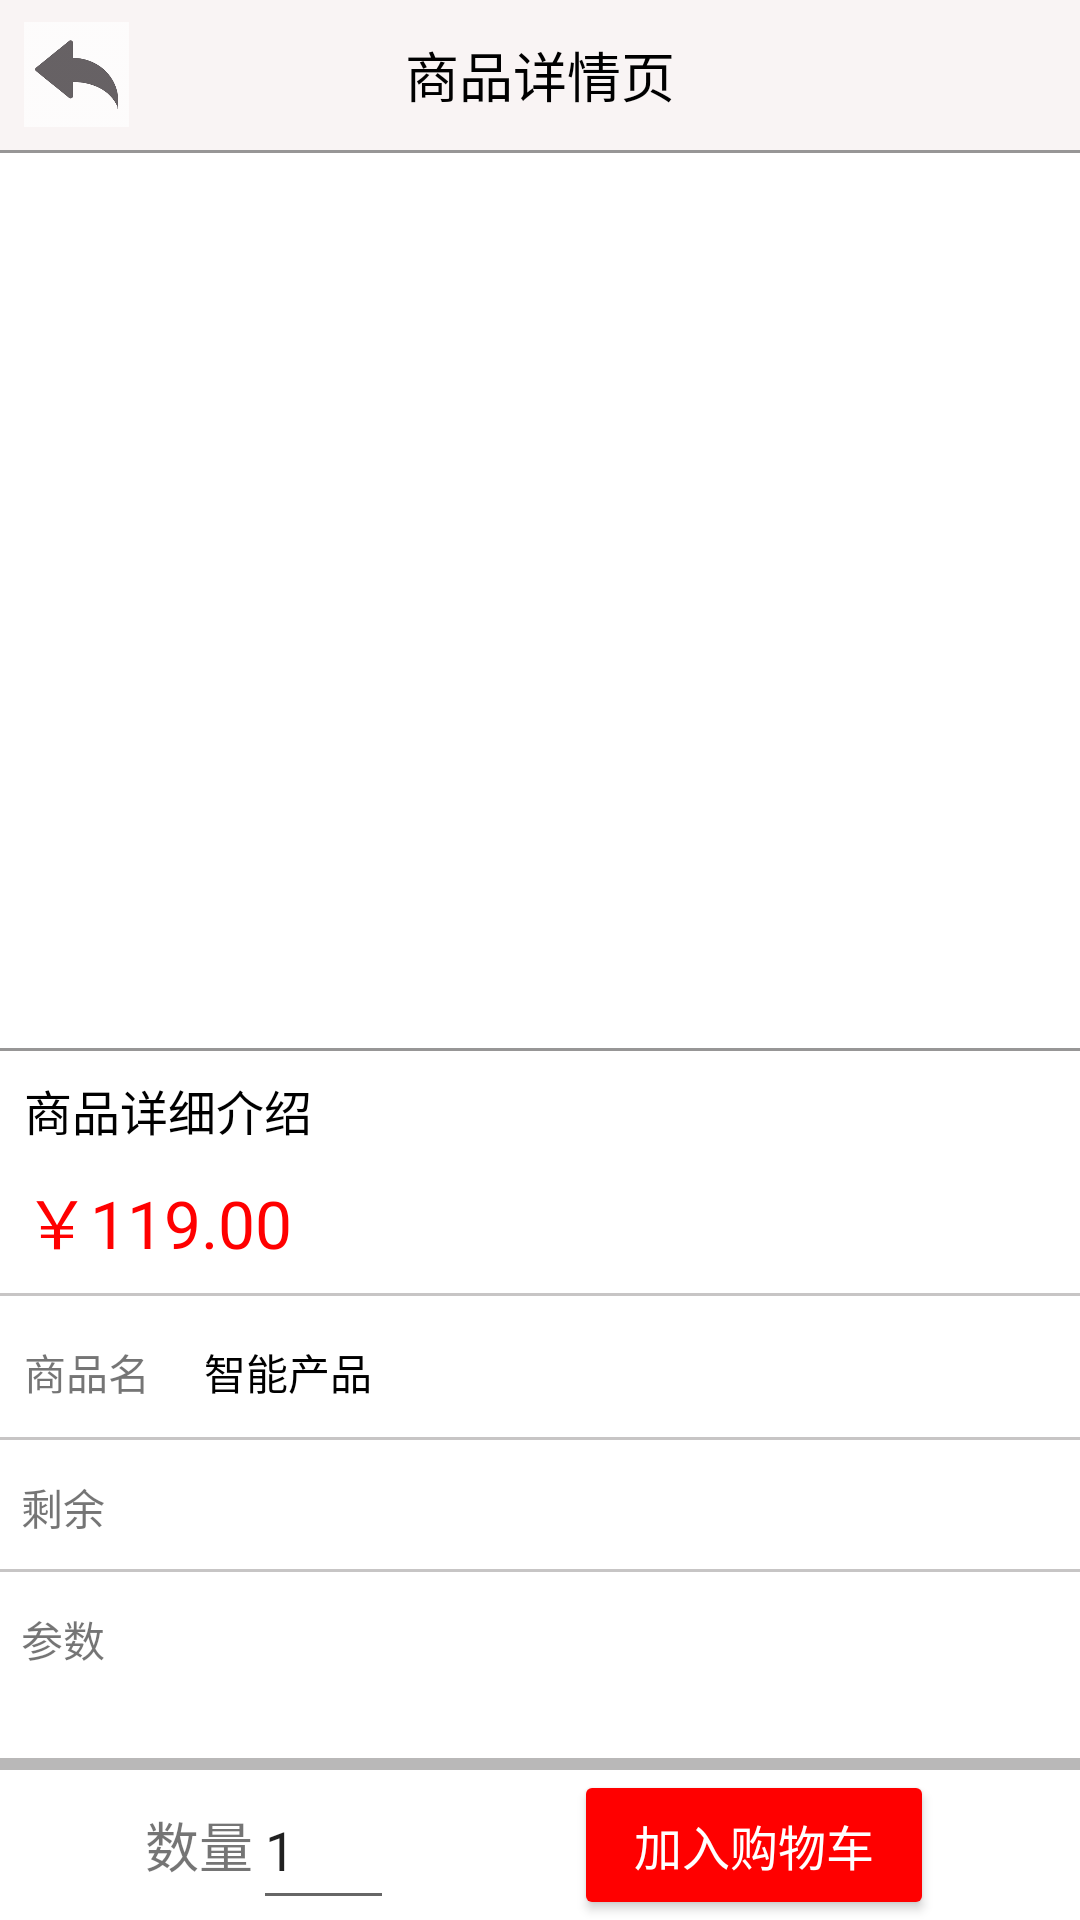

Screen size 1080x1920. Icon name, then its center in pixels as [x,y]:
back: [76,74]
